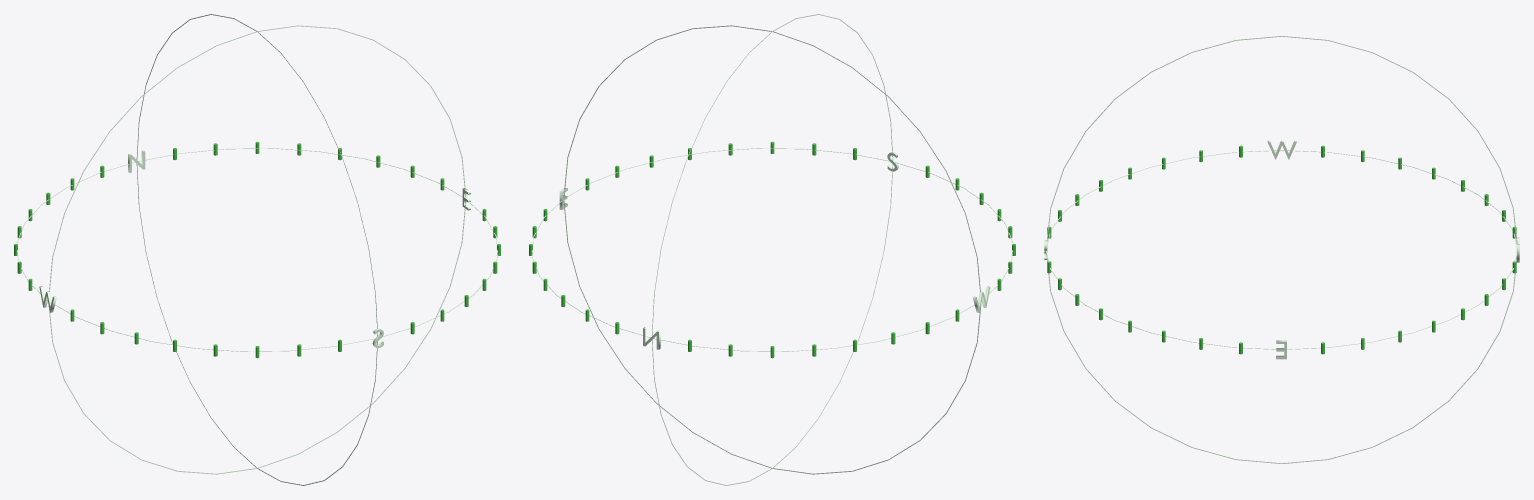
File: compass1.fbx
The picture shows the model from 3 angles, left to right: view 1: azimuth 30°, elevation 25°; view 2: azimuth 150°, elevation 25°; view 3: azimuth 270°, elevation 25°; orthographic projection. The views are drawn at different scales.
Parts seen in each view (by area): view 1: Circle.001, Circle.002, Circle.000; view 2: Circle.001, Circle.002, Circle.000; view 3: Circle.002, Circle.000.
Part boxes in pixels (x1,y1,x2,y2): Circle.001: [48, 25, 466, 474]; Circle.002: [136, 14, 377, 485]; Circle.000: [16, 148, 498, 351]; Circle.001: [563, 25, 981, 474]; Circle.002: [652, 14, 893, 485]; Circle.000: [531, 148, 1013, 351]; Circle.002: [1046, 36, 1517, 463]; Circle.000: [1046, 150, 1517, 349].
Size of the model in its own units: 4026 by 4000 by 4026.
